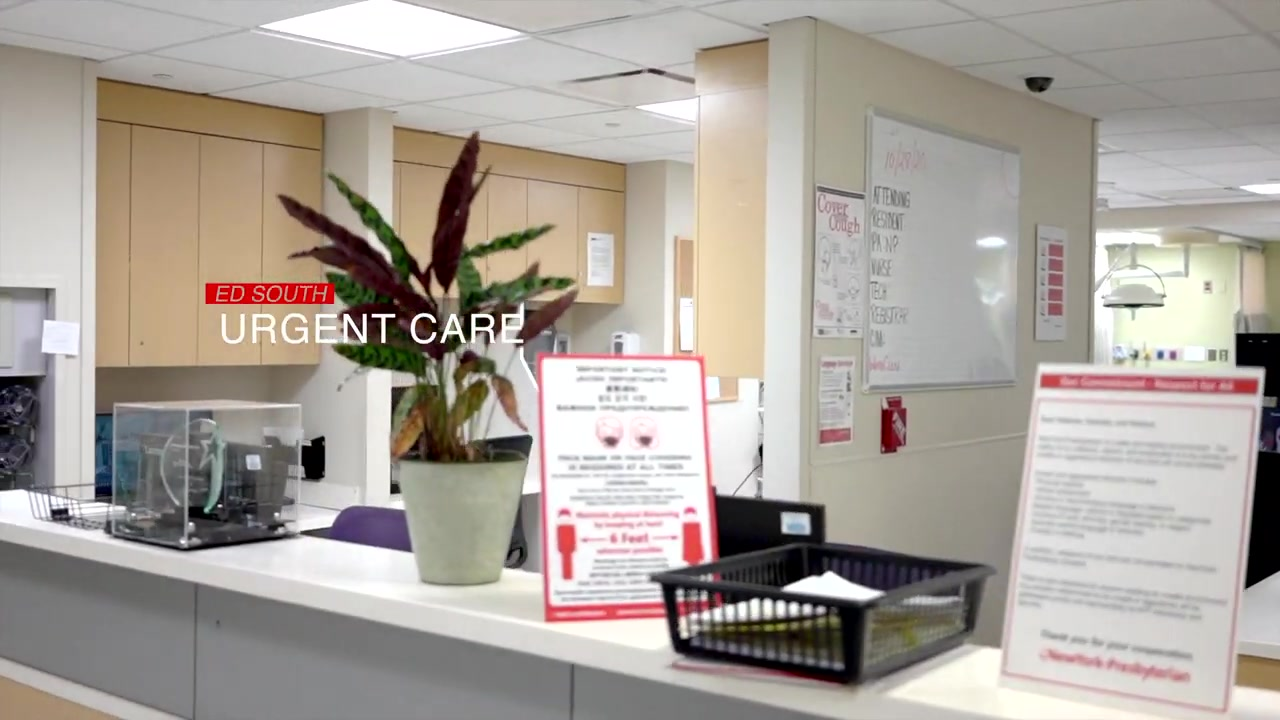cabinet: (98, 78, 321, 368), (398, 124, 623, 306)
chair: (327, 505, 419, 552)
computer: (90, 402, 220, 501), (704, 496, 829, 592)
countertop: (1, 483, 1280, 720), (1213, 570, 1280, 659)
dispenser: (610, 332, 639, 355)
surgical_light: (1104, 283, 1165, 317)
